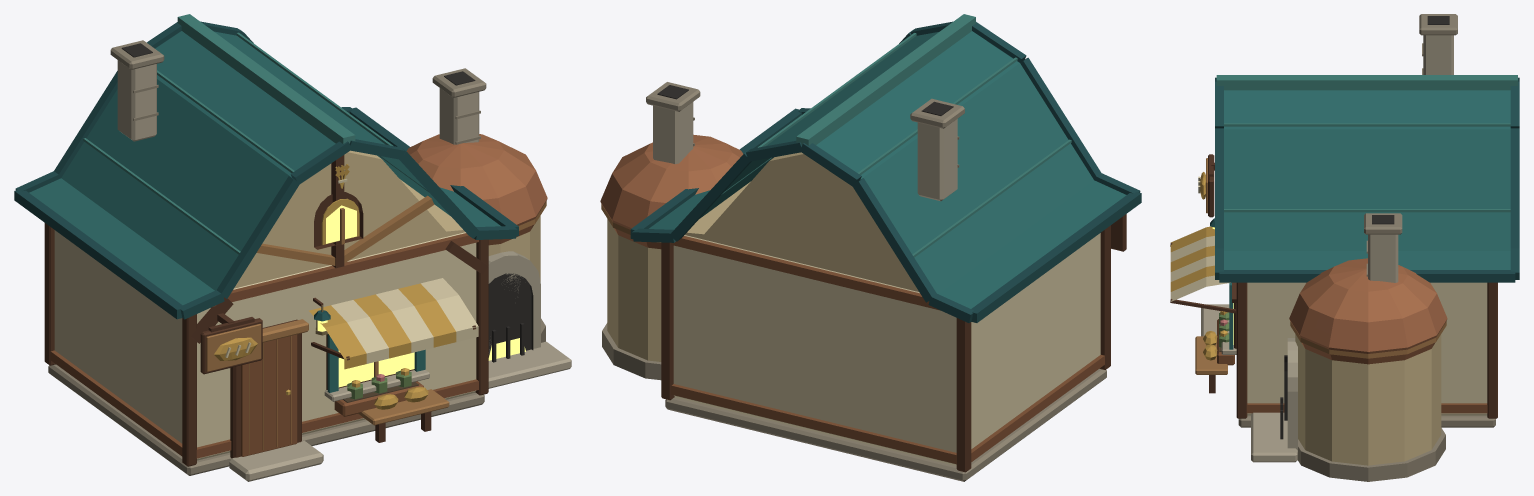
File: bakery.glb
3 views of the same model, side by side, from view 1: azimuth 30°, elevation 25°; view 2: azimuth 150°, elevation 25°; view 3: azimuth 270°, elevation 25° (orthographic). The views are drawn at different scales.
Parts seen in each view (by area): view 1: bakery; view 2: bakery; view 3: bakery.
Boxes of the visible parts, box(x1,y1,x2,y2) form: bakery: box(14, 14, 571, 481); bakery: box(600, 14, 1141, 481); bakery: box(1170, 14, 1519, 481).
Bounding box in the file's own units: 8.77 × 6.33 × 6.62.
